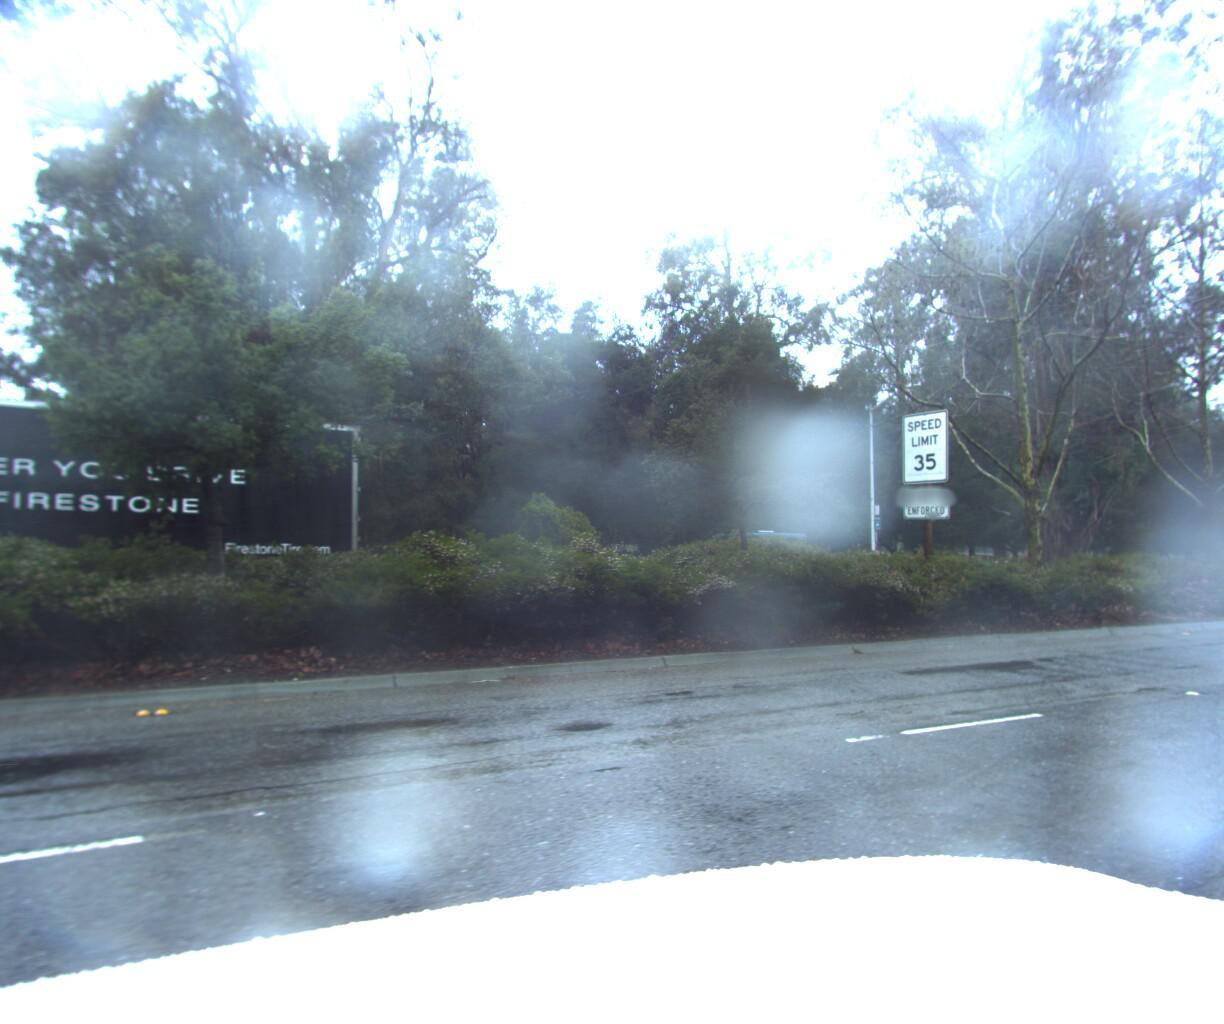truck: (0, 233, 380, 737)
